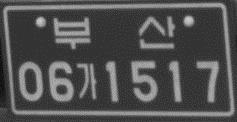0: (17, 59, 44, 102)
1: (166, 59, 185, 105), (104, 59, 123, 104)
5: (130, 59, 160, 104)
6: (48, 59, 74, 104)
7: (195, 58, 222, 104)
가: (75, 61, 99, 101)
부산_D: (51, 13, 176, 50)
